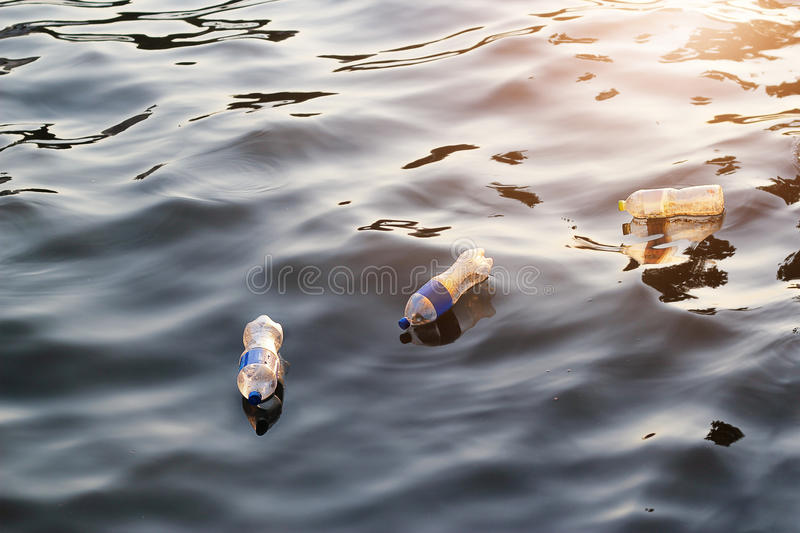plastic_bottle: (233, 307, 294, 412), (615, 180, 731, 222)
